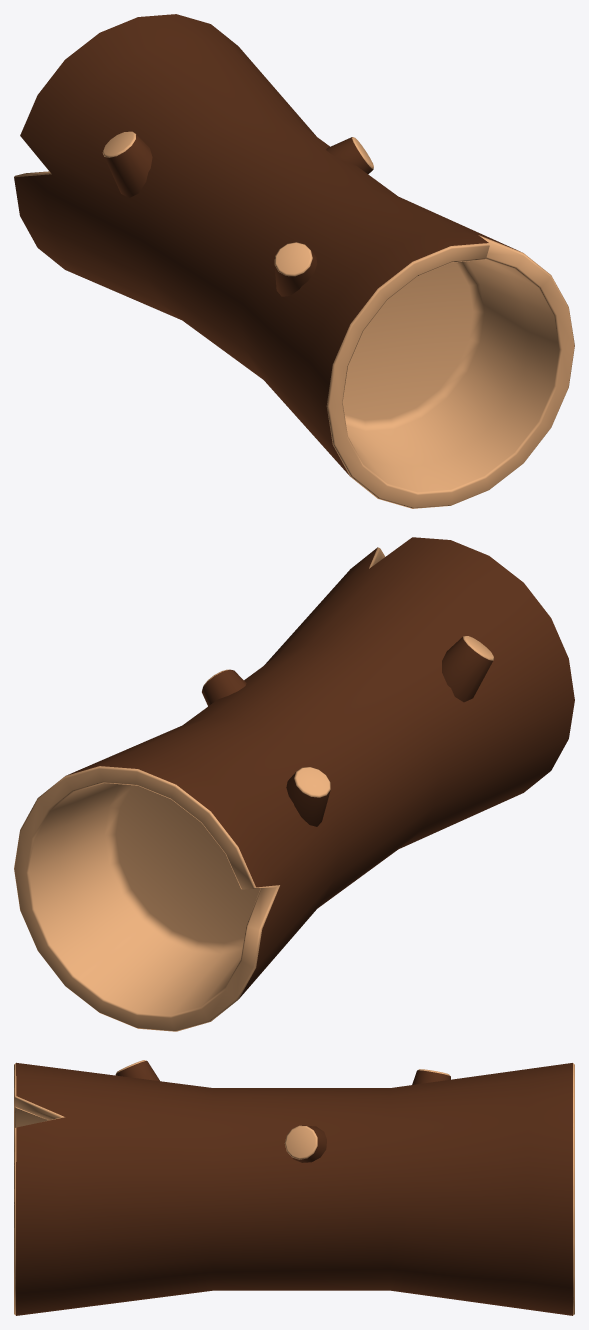
File: Buche.fbx
3 views of the same model, one above another, from view 1: azimuth 30°, elevation 25°; view 2: azimuth 150°, elevation 25°; view 3: azimuth 270°, elevation 25° (orthographic). The views are drawn at different scales.
Parts seen in each view (by area): view 1: pCylinder20; view 2: pCylinder20; view 3: pCylinder20.
Part boxes in pixels (left/top/right/bottom): pCylinder20: left=14, top=14, right=574, bottom=508; pCylinder20: left=14, top=537, right=574, bottom=1031; pCylinder20: left=14, top=1060, right=574, bottom=1315.
Size of the model in its own units: 20.74 by 20.74 by 45.6.
